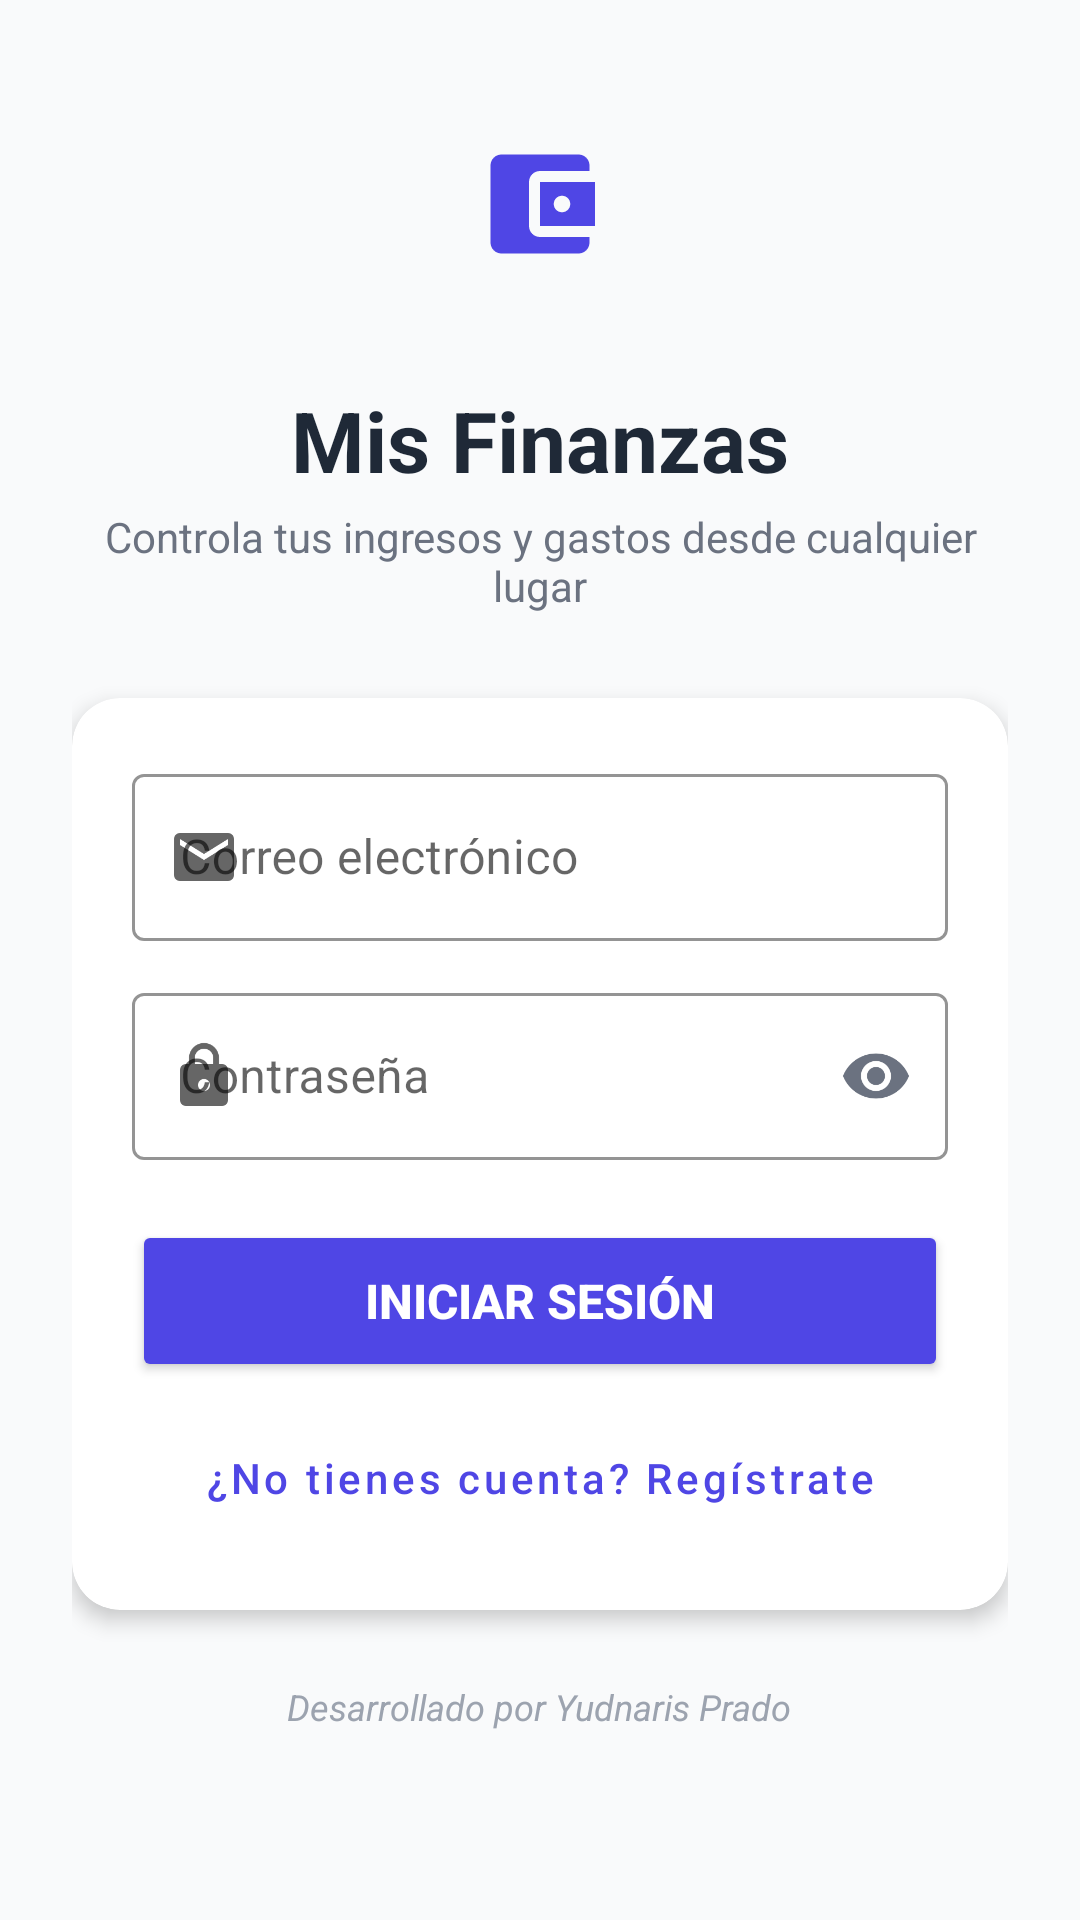

Named icons in this screenshot (1080w x 1920h) and their bounding boxes, (x1, y1, x2, y2):
wallet: (490, 154, 595, 254)
